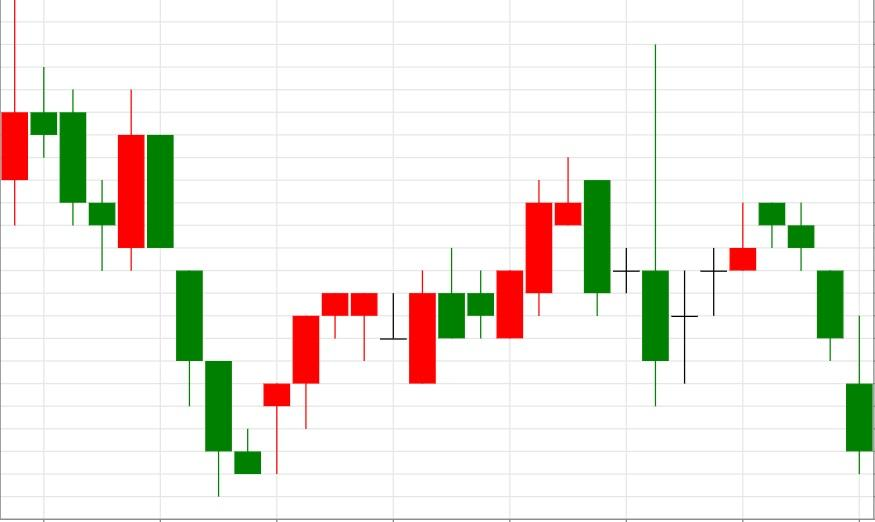shooting_star_fall: (409, 157, 583, 386)
three_black_crows_fall: (643, 42, 845, 406), (86, 88, 233, 497)
three_white_soldiers_rise: (146, 135, 350, 498)
